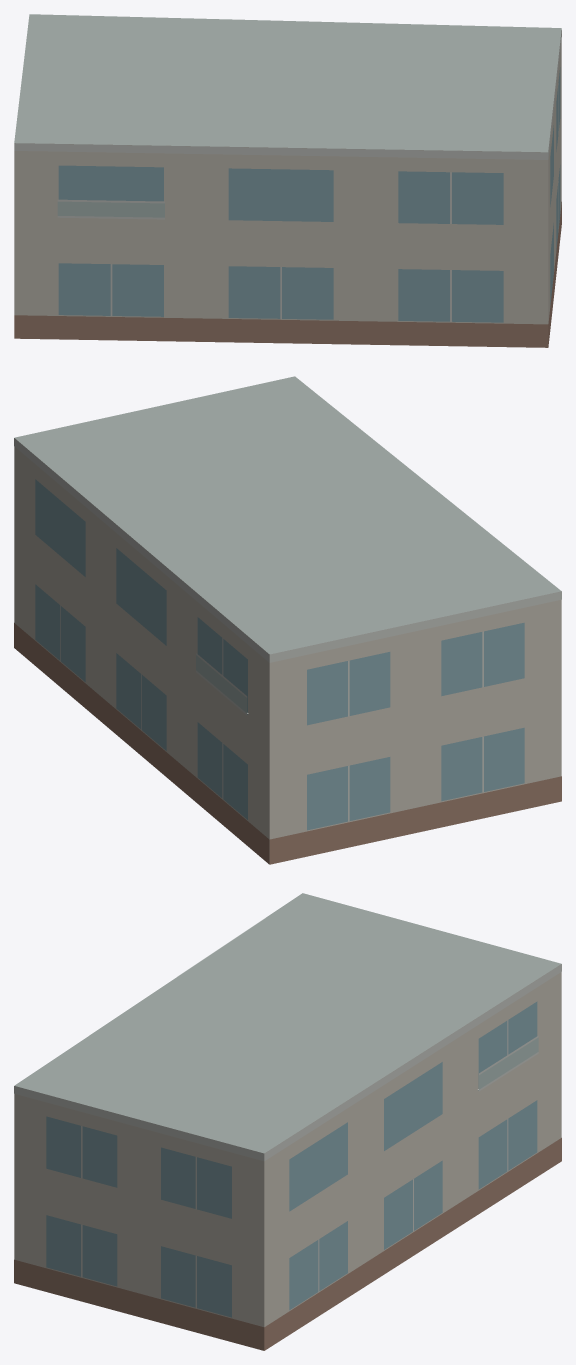
The model's file is survey-upis-32949058.glb.
3 views of the same model, one above another, from view 1: azimuth 30°, elevation 25°; view 2: azimuth 150°, elevation 25°; view 3: azimuth 270°, elevation 25° (orthographic). The views are drawn at different scales.
Parts seen in each view (by area): view 1: survey-upis-32949058.tmp; view 2: survey-upis-32949058.tmp; view 3: survey-upis-32949058.tmp.
Part boxes in pixels (x1=…): survey-upis-32949058.tmp: x1=14, y1=14, x2=561, y2=347; survey-upis-32949058.tmp: x1=14, y1=376, x2=561, y2=864; survey-upis-32949058.tmp: x1=14, y1=893, x2=561, y2=1350.
Bounding box in the file's own units: 17.27 × 6.1 × 15.35.
